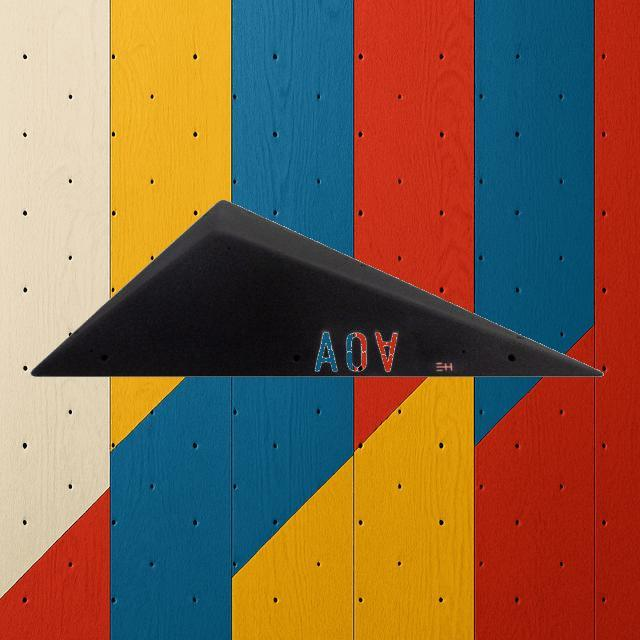Volume: (30, 197, 604, 379)
